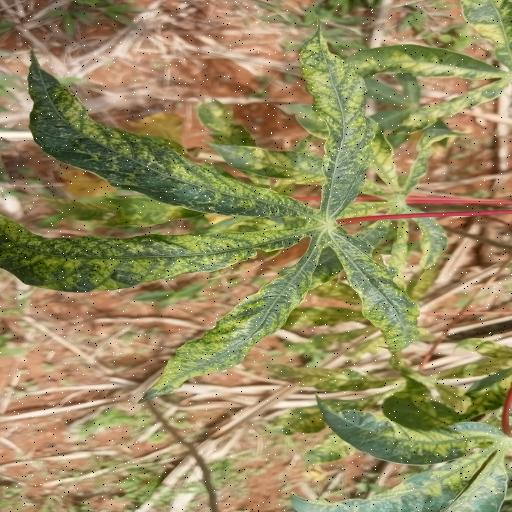Cassava_Mosaic: (0, 24, 436, 405)
